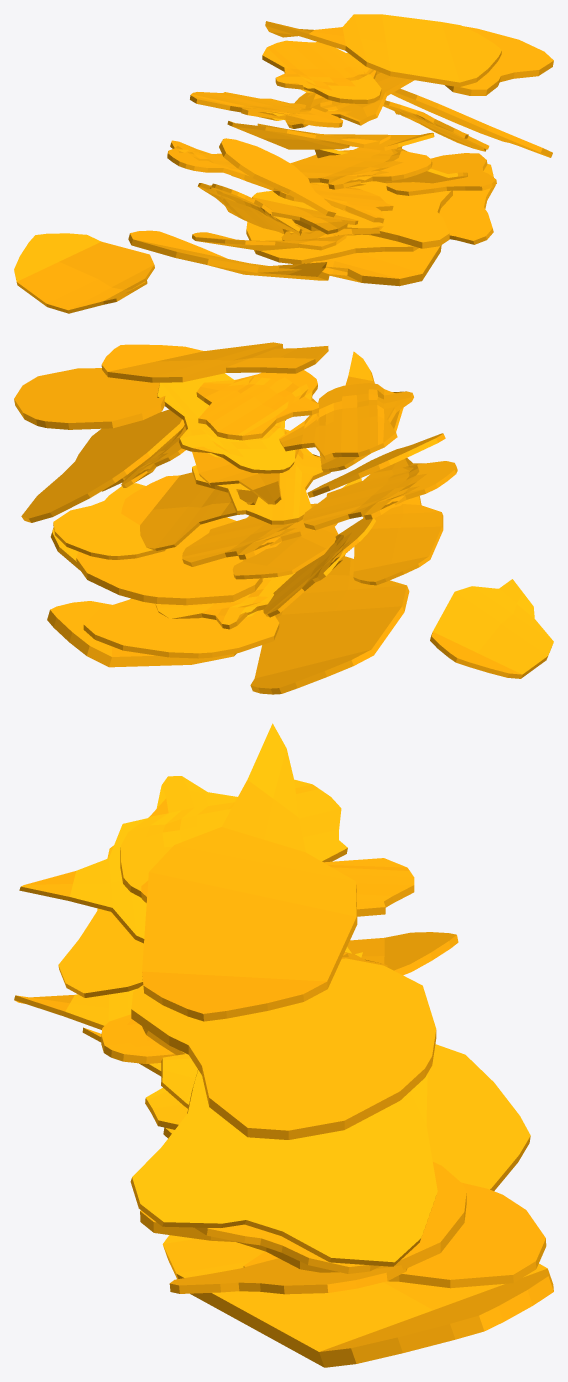
File: chicken of the wood.fbx
3 views of the same model, one above another, from view 1: azimuth 30°, elevation 25°; view 2: azimuth 150°, elevation 25°; view 3: azimuth 270°, elevation 25° (orthographic). The views are drawn at different scales.
Visible parts, largest first — view 1: Plane.043; view 2: Plane.043; view 3: Plane.043.
Boxes of the visible parts, x1,y1,x2,y2 form: Plane.043: (14, 14, 553, 313); Plane.043: (14, 342, 553, 694); Plane.043: (14, 723, 553, 1367).
Bounding box in the file's own units: 2099 × 1173 × 1164.
